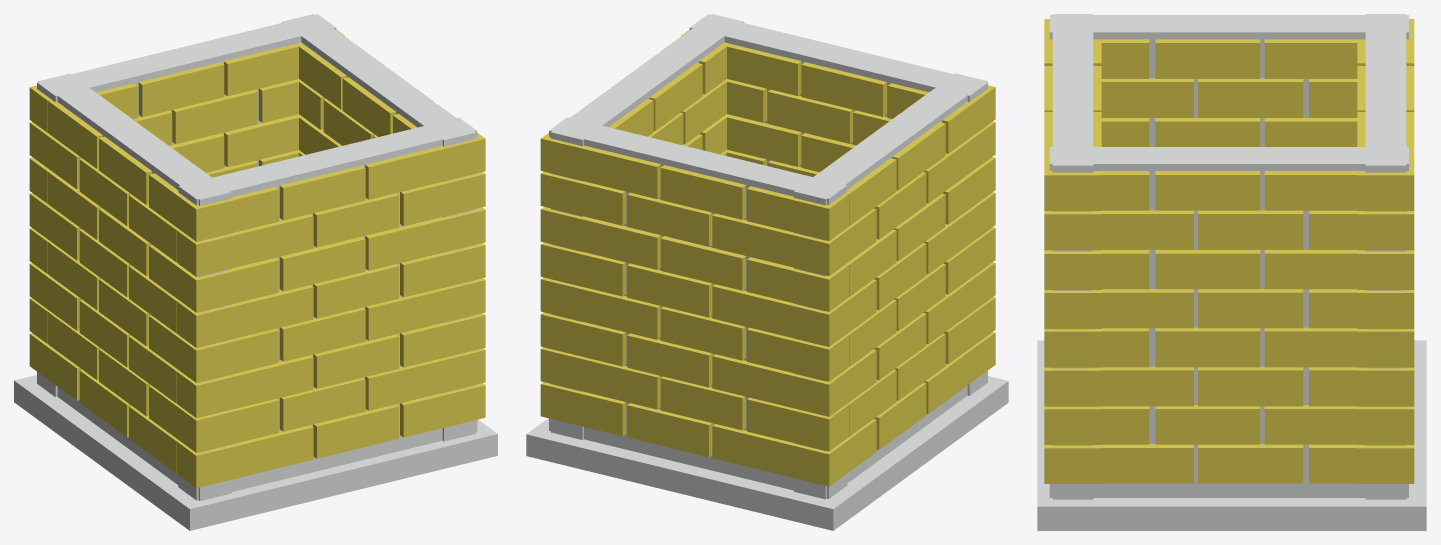
The picture shows the model from 3 angles, left to right: view 1: azimuth 30°, elevation 25°; view 2: azimuth 150°, elevation 25°; view 3: azimuth 270°, elevation 25°; orthographic projection. The views are drawn at different scales.
Visible parts, largest first — view 1: tugla_grubu_16; view 2: tugla_grubu_16; view 3: tugla_grubu_16.
Boxes of the visible parts, x1=… form: tugla_grubu_16: x1=14, y1=14, x2=497, y2=530; tugla_grubu_16: x1=526, y1=14, x2=1008, y2=530; tugla_grubu_16: x1=1037, y1=14, x2=1426, y2=530.
Size of the model in its own units: 1703 by 1706 by 1683.
